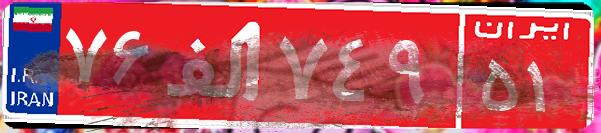1: (525, 38, 570, 115)
4: (330, 28, 385, 110)
5: (475, 38, 525, 113)
6: (110, 28, 158, 105)
7: (273, 28, 330, 110), (57, 26, 110, 107)
9: (385, 28, 445, 110)
الف: (158, 15, 273, 115)
